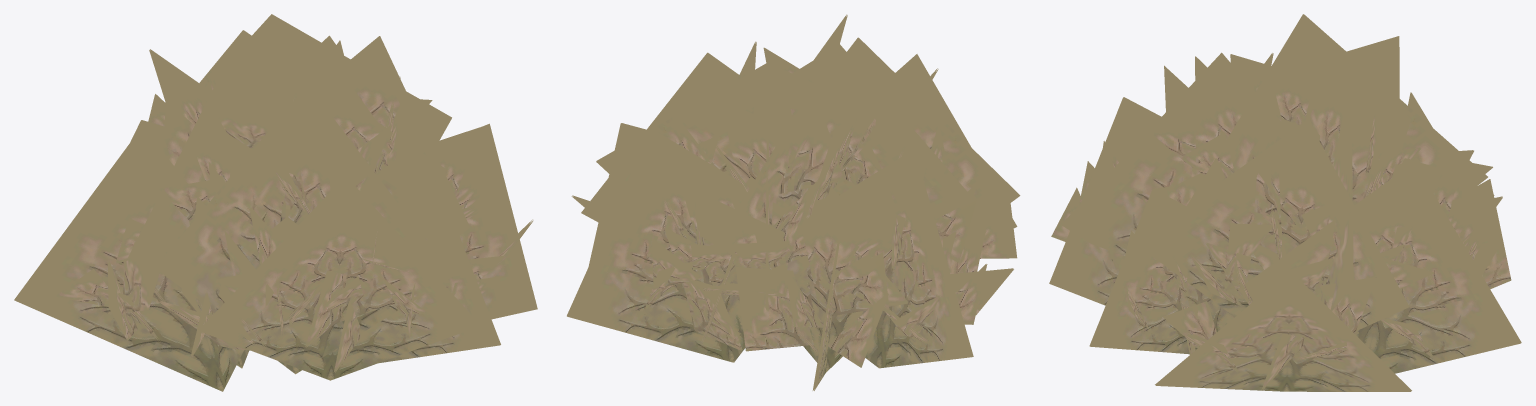
The model's file is SM_cao02_ZYF_2.fbx.
3 views of the same model, side by side, from view 1: azimuth 30°, elevation 25°; view 2: azimuth 150°, elevation 25°; view 3: azimuth 270°, elevation 25° (orthographic). The views are drawn at different scales.
Visible parts, largest first — view 1: SM_cao02_ZYF_2.mo; view 2: SM_cao02_ZYF_2.mo; view 3: SM_cao02_ZYF_2.mo.
Part boxes in pixels (<box>): SM_cao02_ZYF_2.mo: <box>14,14,537,391</box>; SM_cao02_ZYF_2.mo: <box>567,14,1020,390</box>; SM_cao02_ZYF_2.mo: <box>1049,14,1521,391</box>.
Bounding box in the file's own units: 4.42 × 3.25 × 4.14.
